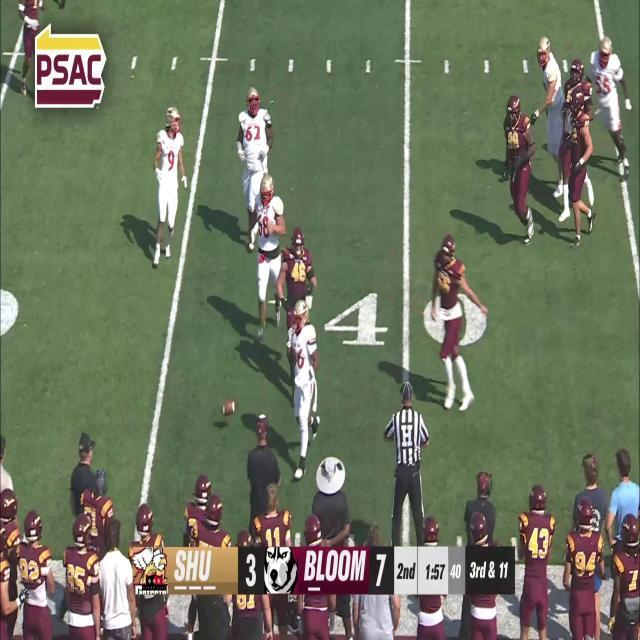football: (221, 399, 236, 416)
